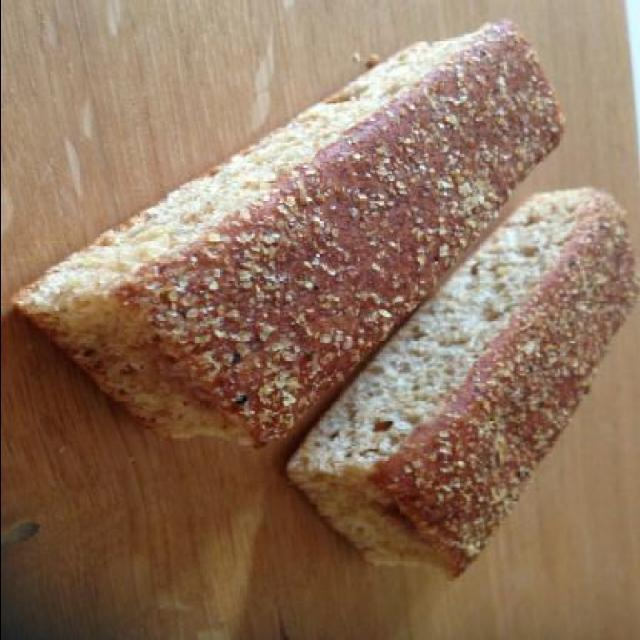Merendine packaged: (1, 21, 568, 448), (283, 188, 639, 582)
